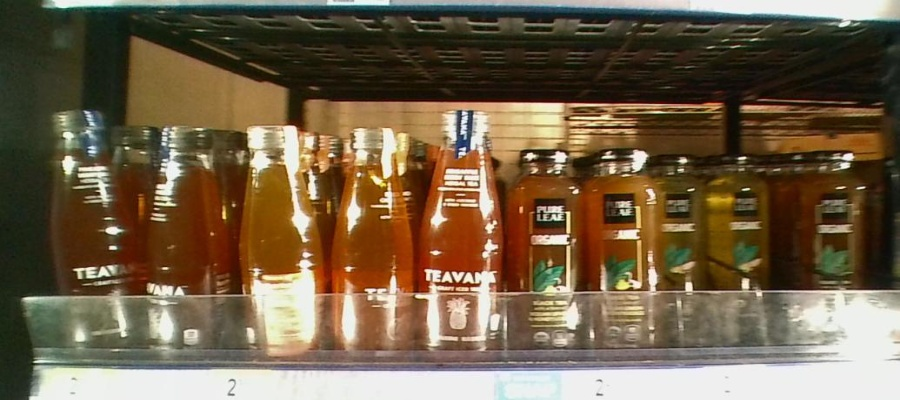bottle: (48, 104, 141, 356), (144, 120, 233, 358), (422, 100, 503, 357), (239, 120, 326, 358), (328, 118, 408, 364), (583, 135, 663, 357), (507, 142, 582, 354), (799, 148, 876, 350), (710, 154, 787, 343), (666, 150, 707, 350)
